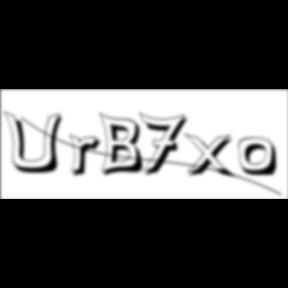7: (138, 111, 194, 179)
B: (99, 111, 149, 179)
U: (3, 110, 68, 176)
o: (238, 137, 280, 179)
r: (70, 134, 108, 180)
x: (184, 132, 240, 181)
